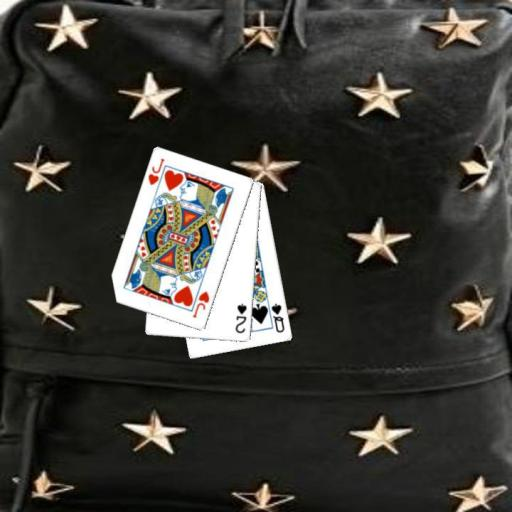2S: (233, 301, 248, 335)
JH: (190, 288, 211, 319), (145, 156, 166, 187)
QS: (269, 300, 287, 334)
